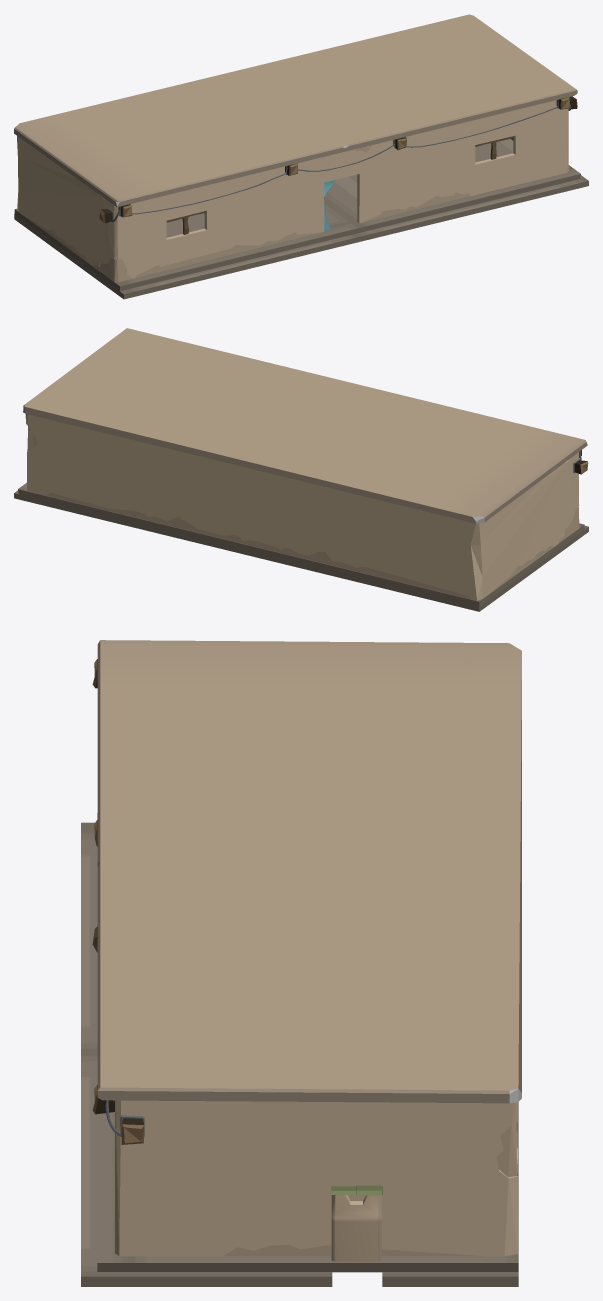
File: school.fbx
3 renders of one model, top to bottom at view 1: azimuth 30°, elevation 25°; view 2: azimuth 150°, elevation 25°; view 3: azimuth 270°, elevation 25°, orthographic. The views are drawn at different scales.
Parts seen in each view (by area): view 1: School; view 2: School; view 3: School.
Part boxes in pixels (left/top/right/bottom): School: left=14, top=14, right=588, bottom=299; School: left=14, top=328, right=588, bottom=611; School: left=81, top=640, right=521, bottom=1286.
Bounding box in the file's own units: 0.2186 × 0.042 × 0.0879.
